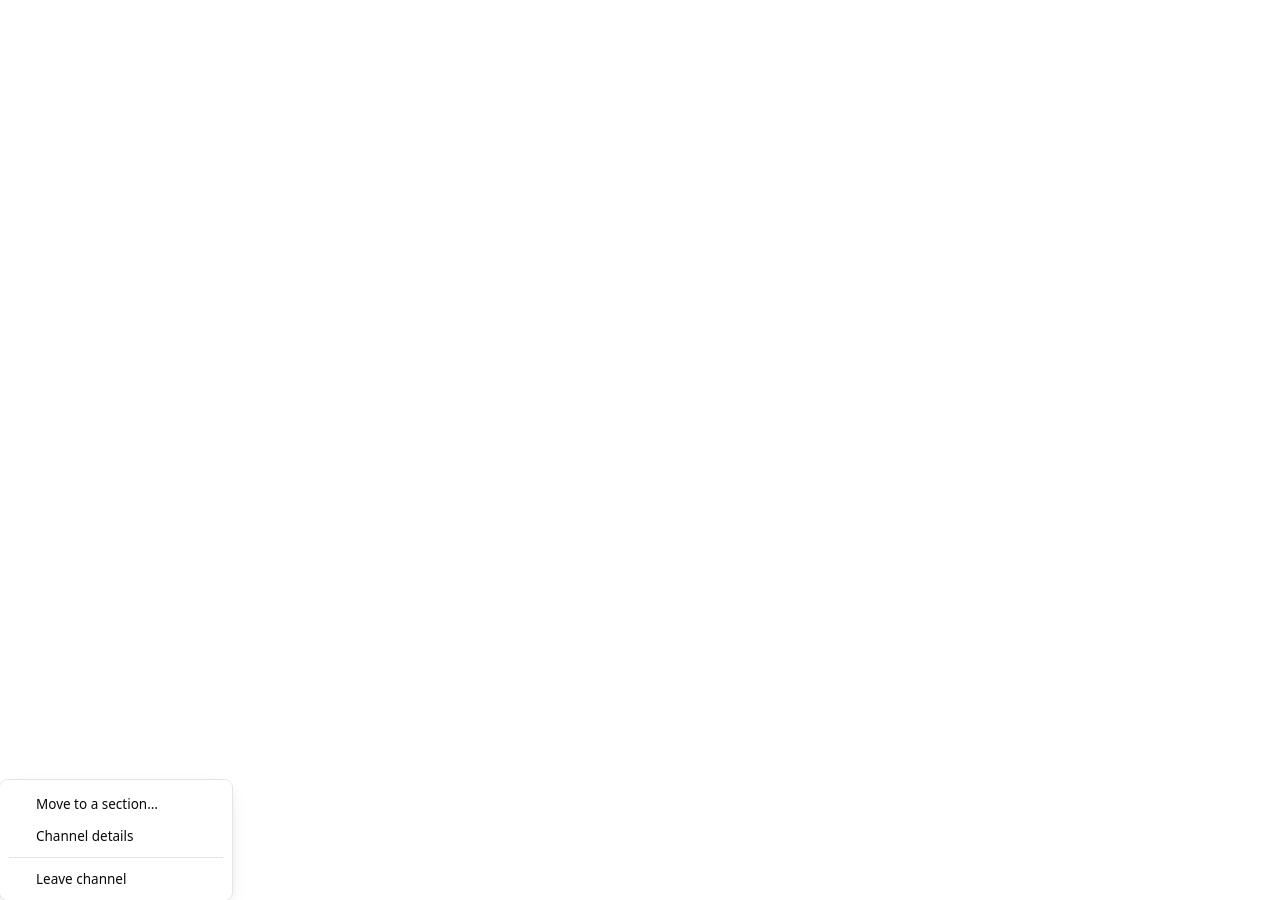
Test: leaving › asks first, and says what leaving a private one costs
The image size is (1280, 900).
(page scrolled)
Click the menu item "Leave channel" at x=116, y=879, box [5, 863, 227, 895]
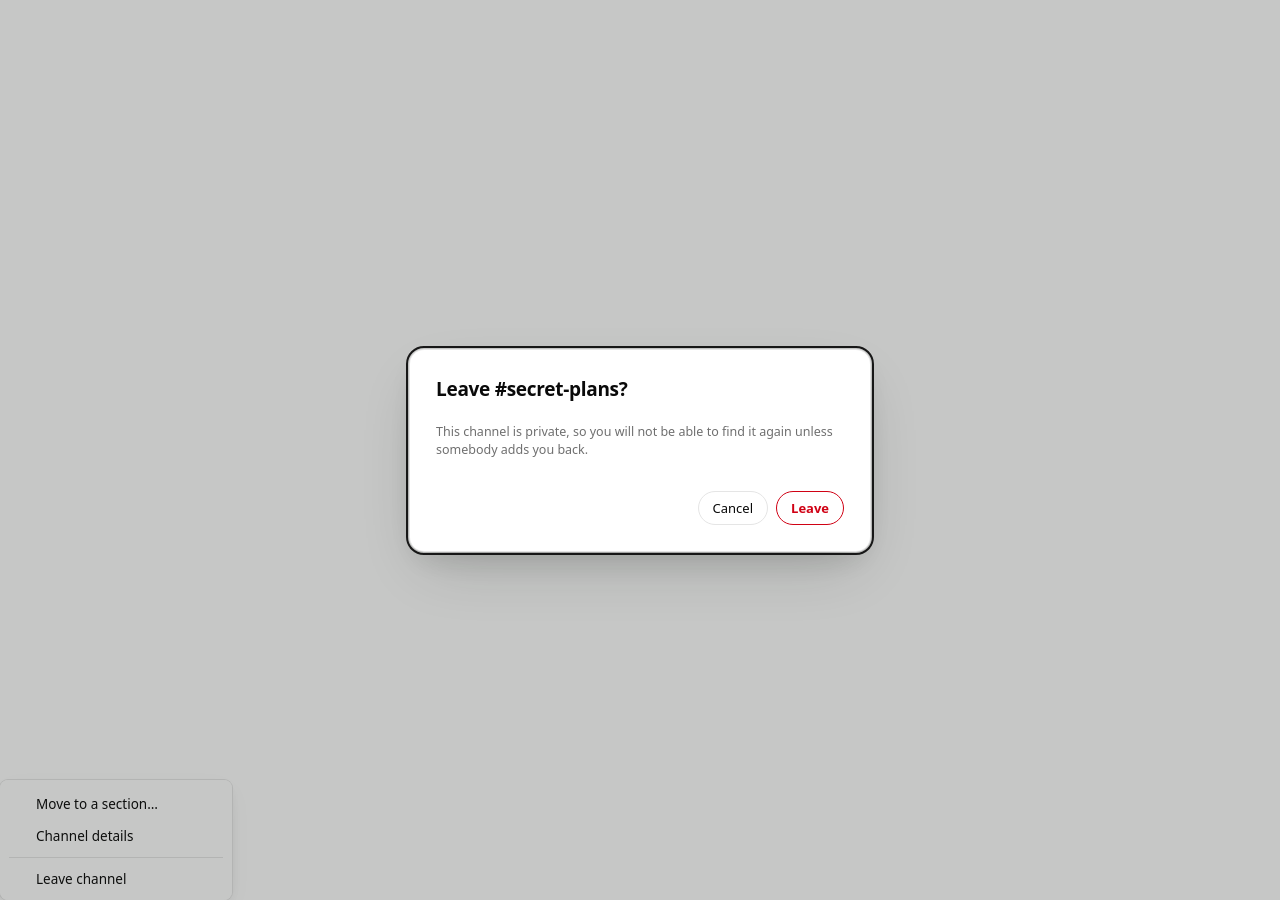
Check: the heading "Leave #secret-plans?" is shown, box [436, 376, 628, 402]
Check: the text "will not be able to find it again" is shown, box [436, 422, 833, 458]
